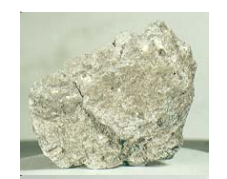Breccia: (19, 11, 201, 170), (50, 76, 162, 156), (84, 64, 192, 145)
